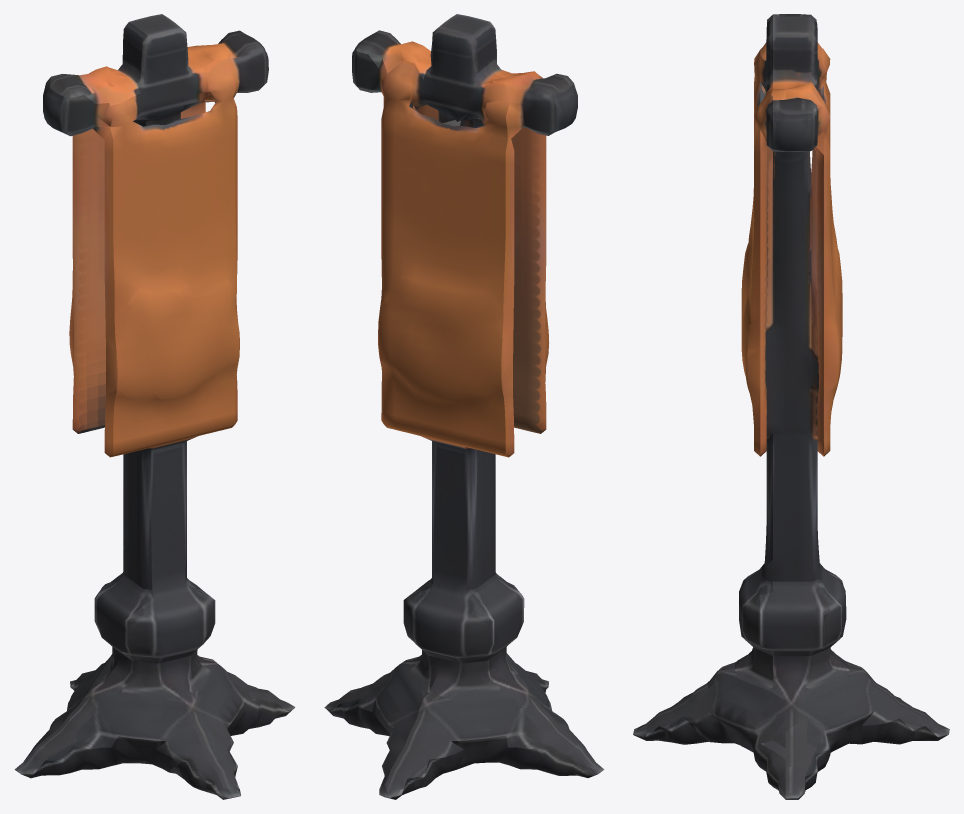
The model's file is Banner.glb.
3 views of the same model, side by side, from view 1: azimuth 30°, elevation 25°; view 2: azimuth 150°, elevation 25°; view 3: azimuth 270°, elevation 25° (orthographic).
Visible parts, largest first — view 1: tmp3ggbdfcq.ply; view 2: tmp3ggbdfcq.ply; view 3: tmp3ggbdfcq.ply.
Boxes of the visible parts, left/top/right/bottom form: tmp3ggbdfcq.ply: left=14, top=14, right=295, bottom=799; tmp3ggbdfcq.ply: left=324, top=14, right=604, bottom=799; tmp3ggbdfcq.ply: left=633, top=14, right=949, bottom=799.
Size of the model in its own units: 0.7703 by 1.93 by 0.7766.
Materials: 1 (1 with a texture image).
